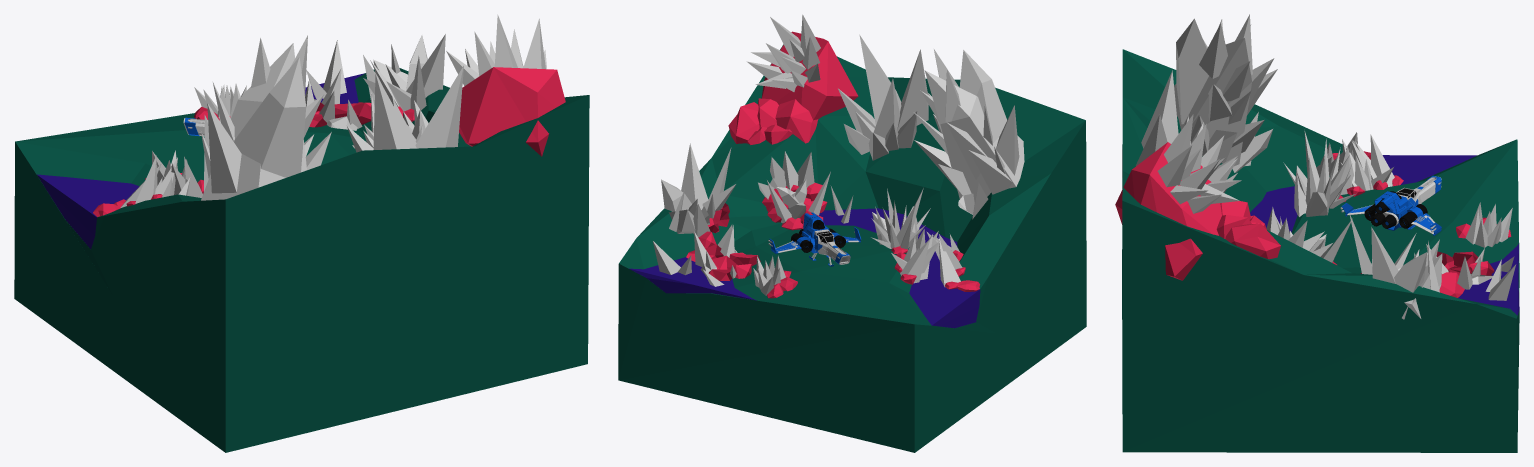
3 views of the same model, side by side, from view 1: azimuth 30°, elevation 25°; view 2: azimuth 150°, elevation 25°; view 3: azimuth 270°, elevation 25° (orthographic). The views are drawn at different scales.
Visible parts, largest first — view 1: group1165319884, group1086494686, group633952088, group425039343, group986920076, group1563733943, group1836491411, group1232847457, group1087394696, group1739881348, group892632473; view 2: group1165319884, group425039343, group986920076, group1086494686, group941546060, group633952088, group1232847457, group1836491411, group1787131132, group1563733943, group282378830, group1087394696 (+11 smaller); view 3: group1165319884, group1086494686, group425039343, group941546060, group986920076, group633952088, group282378830, group1232847457, group1052882998, group1087394696, group1106882358, group892632473 (+19 smaller).
Part boxes in pixels (x1,y1,x2,y2): group1165319884: (14,68,589,452); group1086494686: (459,67,565,156); group633952088: (234,57,306,177); group425039343: (37,73,364,249); group986920076: (201,43,306,200); group1563733943: (207,103,241,193); group1836491411: (415,65,463,148); group1232847457: (373,74,416,149); group1087394696: (406,34,445,97); group1739881348: (494,14,517,67); group892632473: (523,18,545,68); group1165319884: (618,44,1086,452); group425039343: (629,208,980,328); group986920076: (924,70,1024,202); group1086494686: (761,31,858,120); group941546060: (768,212,861,266); group633952088: (959,50,1006,142); group1232847457: (897,49,928,131); group1836491411: (859,34,901,125); group1787131132: (775,99,818,143); group1563733943: (996,105,1019,175); group282378830: (728,102,759,143); group1087394696: (681,143,708,209); group1165319884: (1122,49,1519,452); group1086494686: (1115,142,1222,280); group425039343: (1250,155,1519,315); group941546060: (1340,175,1441,235); group986920076: (1174,38,1251,166); group633952088: (1176,18,1208,124); group282378830: (1225,223,1280,259); group1232847457: (1141,70,1178,148); group1052882998: (1199,23,1227,78); group1087394696: (1371,227,1398,283); group1106882358: (1394,252,1426,319); group892632473: (1157,145,1191,187).
Bounding box in the file's own units: 3.96 × 3.51 × 3.96.
